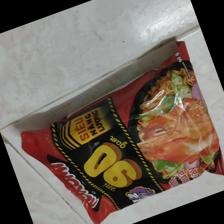Kokomi: (22, 44, 223, 224)
